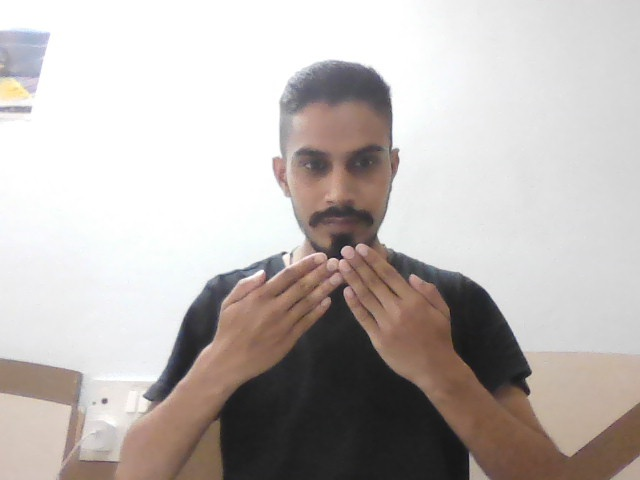ThankYou: (212, 244, 457, 380)
